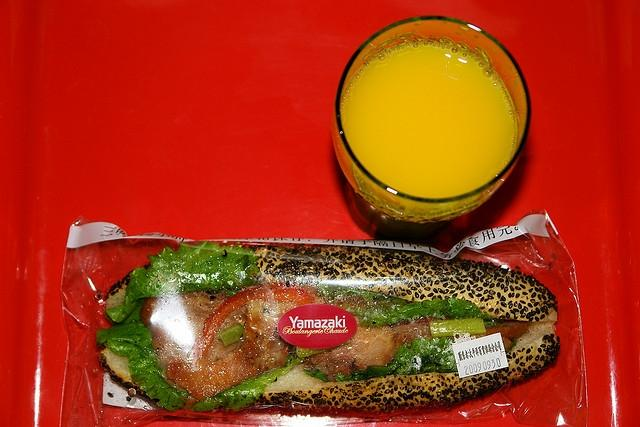tomato: (485, 320, 529, 341)
